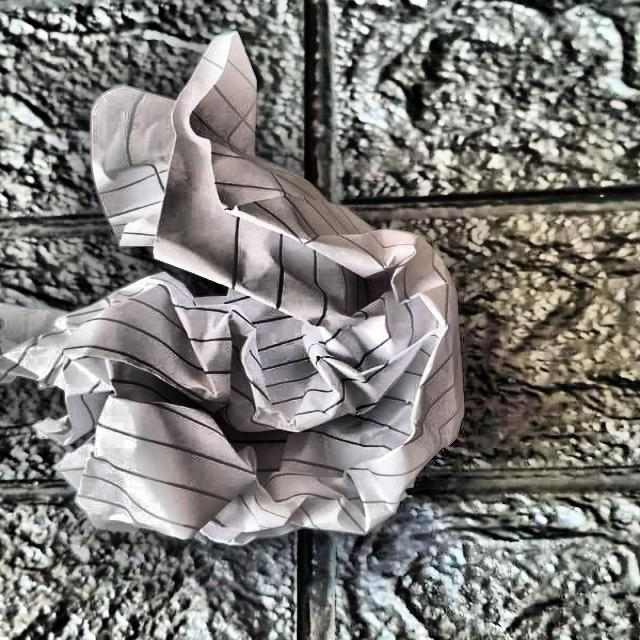paper: (8, 49, 481, 537)
